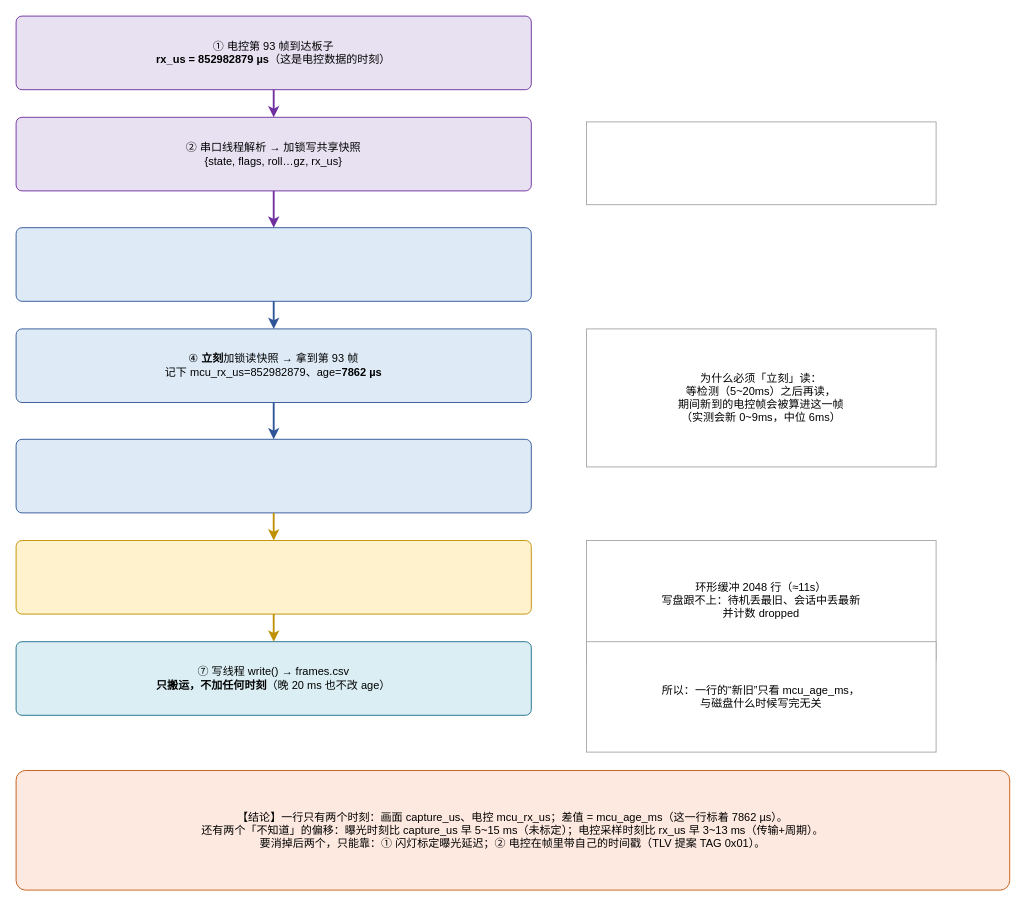
The diagram is 1026 pixels wide and 906 high, and some of its shapes have lost their labels. The centre of each missing label's shape, as x and y in pixels:
③ 主线程取到一帧（VI 出图） capture_us = 852990741 µs （这是画面的时刻）: (273,264)
⑤ 检测 7.1 ms → 组一行文本 22 个视觉列 + 9 个电控列 + 2 个时刻列: (273,475)
⑥ memcpy 进环形缓冲（微秒级，不碰磁盘） 队列里放的是「已经拼好的一行字符串」: (273,577)
共享快照 = 类成员变量 + 一把 mutex （不是 static，效果等价：全局唯一状态）: (761,163)
